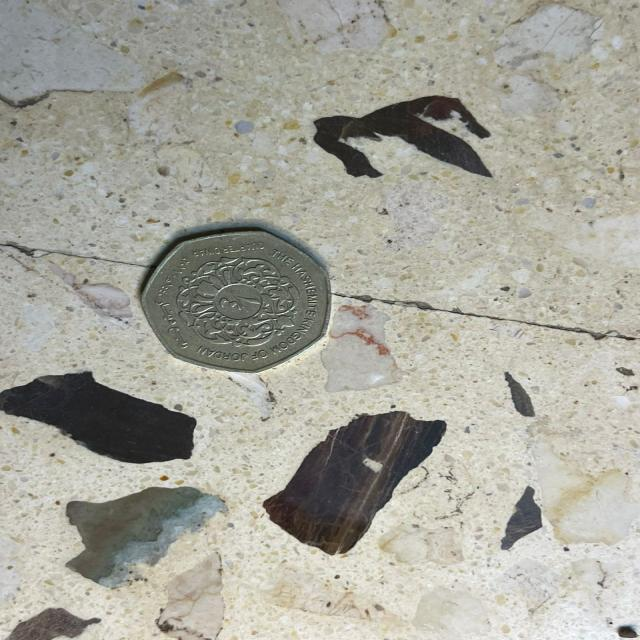25-coins: (138, 229, 333, 374)
